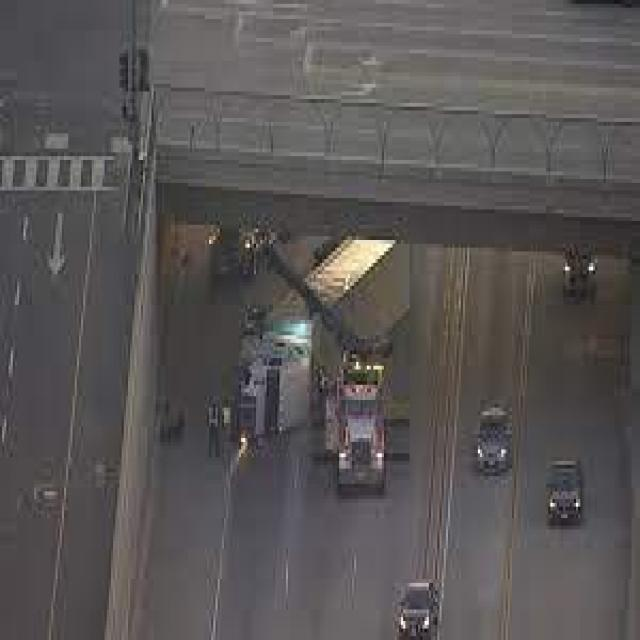accident: (232, 219, 417, 448)
